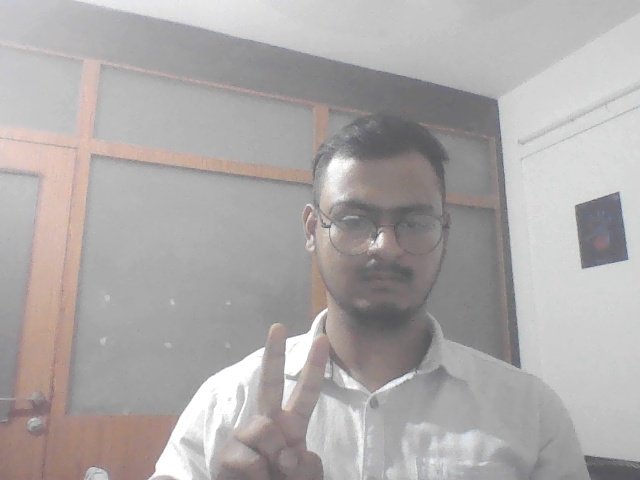Peace: (211, 321, 353, 480)
